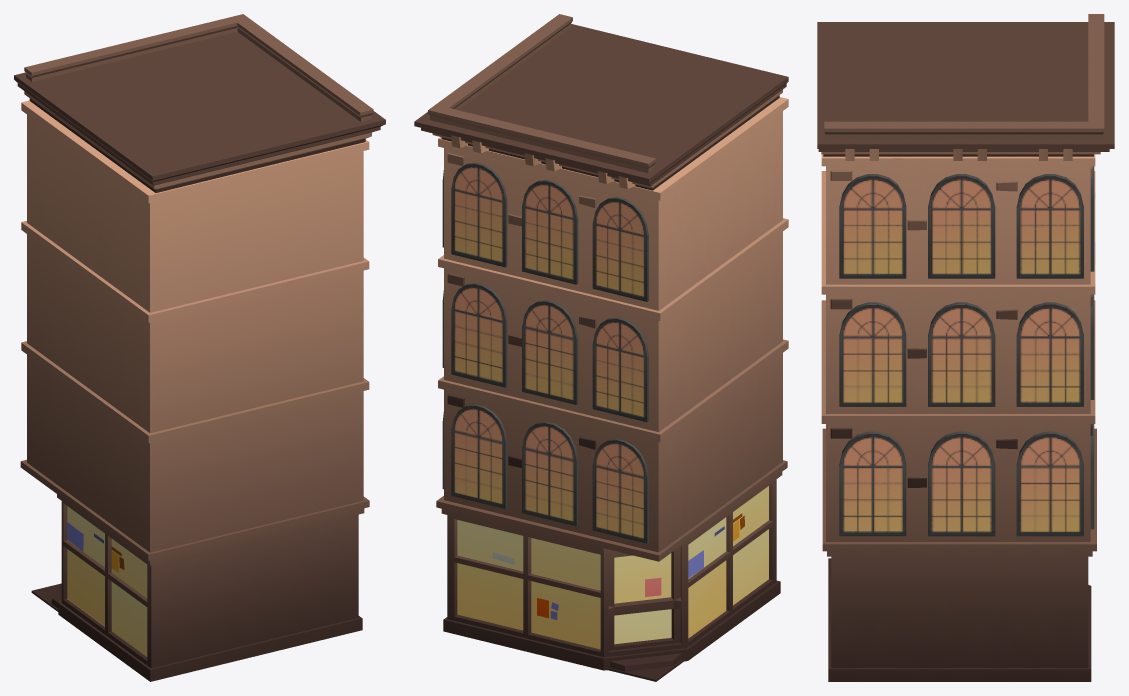
Rendered from BLD1210005.fbx.
3 views of the same model, side by side, from view 1: azimuth 30°, elevation 25°; view 2: azimuth 150°, elevation 25°; view 3: azimuth 270°, elevation 25° (orthographic). The views are drawn at different scales.
Visible parts, largest first — view 1: smBLD1210005; view 2: smBLD1210005; view 3: smBLD1210005.
Boxes of the visible parts, x1,y1,x2,y2 form: smBLD1210005: (14,14,385,681); smBLD1210005: (414,14,788,681); smBLD1210005: (817,14,1114,681).
Size of the model in its own units: 555 by 1171 by 566.
Materials: 1 (1 with a texture image).
